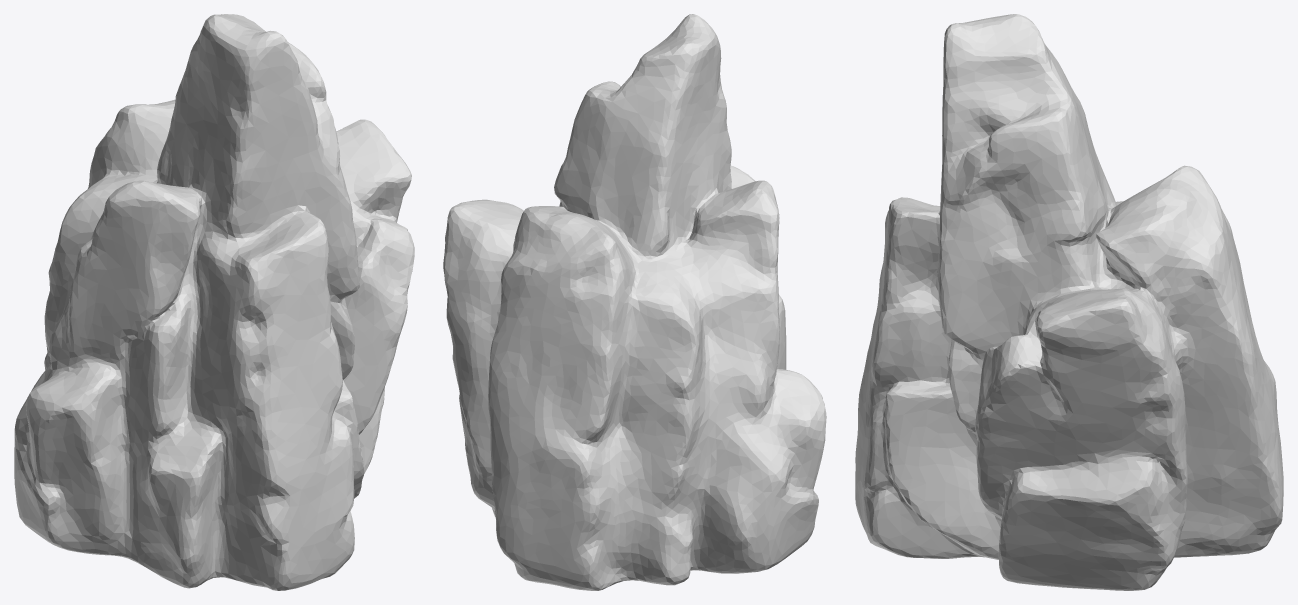
Rendered from crag01.glb.
3 views of the same model, side by side, from view 1: azimuth 30°, elevation 25°; view 2: azimuth 150°, elevation 25°; view 3: azimuth 270°, elevation 25° (orthographic). The views are drawn at different scales.
Visible parts, largest first — view 1: Low; view 2: Low; view 3: Low.
Part boxes in pixels (left/top/right/bottom): Low: left=14, top=14, right=414, bottom=590; Low: left=443, top=14, right=826, bottom=590; Low: left=855, top=14, right=1283, bottom=590.
Bounding box in the file's own units: 1.47 × 1.98 × 1.47.
1 material, 1 textured.
